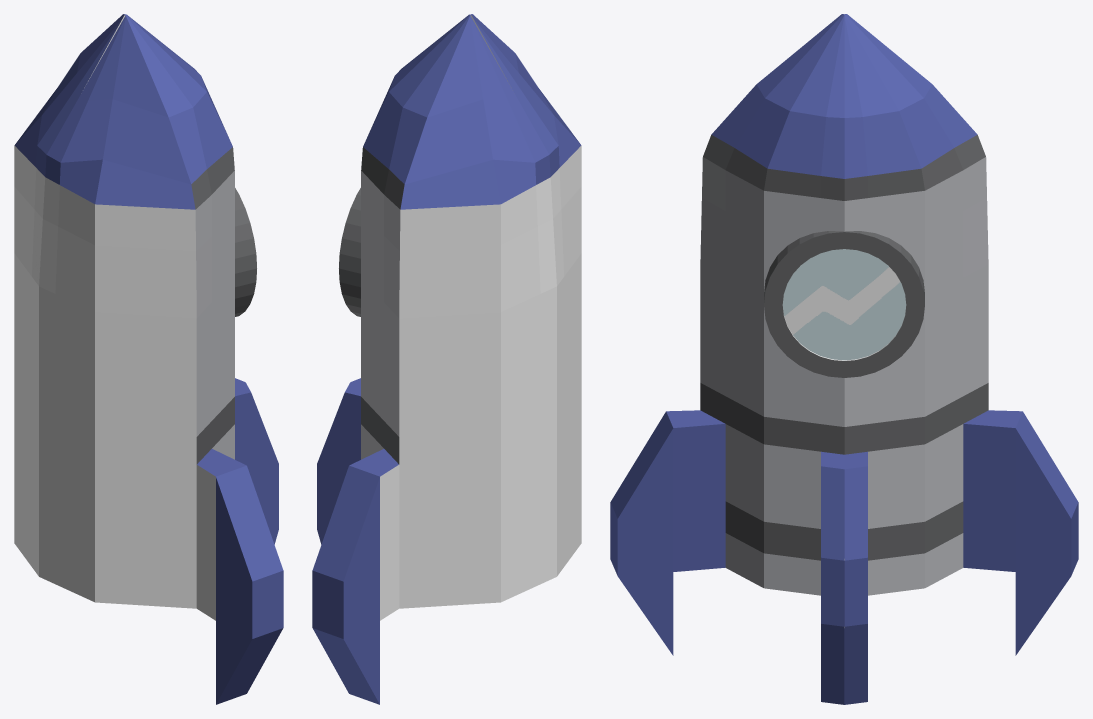
Rendered from rocket.fbx.
The picture shows the model from 3 angles, left to right: view 1: azimuth 30°, elevation 25°; view 2: azimuth 150°, elevation 25°; view 3: azimuth 270°, elevation 25°; orthographic projection.
Parts seen in each view (by area): view 1: Cube, Circle; view 2: Cube, Circle; view 3: Cube, Circle.
Part boxes in pixels (left/top/right/bottom): Cube: left=14, top=14, right=283, bottom=704; Circle: left=235, top=188, right=256, bottom=316; Cube: left=312, top=14, right=581, bottom=704; Circle: left=339, top=188, right=360, bottom=316; Cube: left=610, top=14, right=1078, bottom=704; Circle: left=764, top=231, right=924, bottom=377.
Bounding box in the file's own units: 3.35 × 8.66 × 5.81.
1 material, 1 textured.
